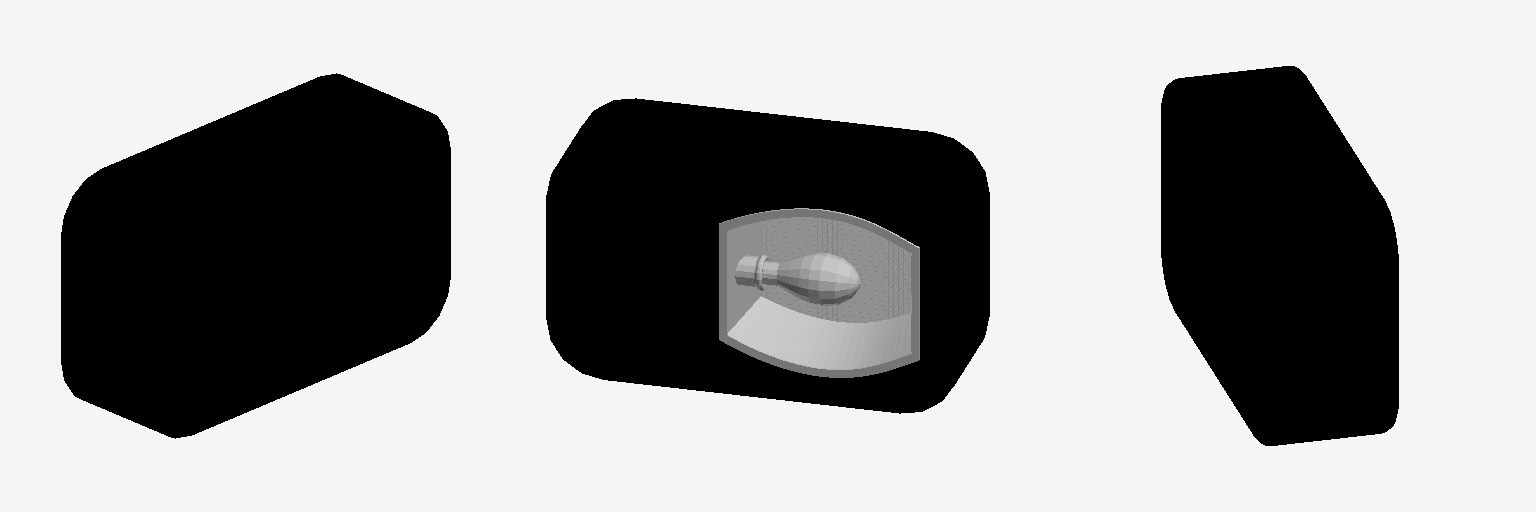
The picture shows the model from 3 angles: view 1: azimuth 30°, elevation 25°; view 2: azimuth 150°, elevation 25°; view 3: azimuth 270°, elevation 25°; orthographic projection.
Parts seen in each view (by area): view 1: VEB_BG2_BezierCurve.014; view 2: VEB_BG2_BezierCurve.014; view 3: VEB_BG2_BezierCurve.014.
Boxes of the visible parts, box(x1,y1,x2,y2) form: VEB_BG2_BezierCurve.014: box(61, 73, 450, 438); VEB_BG2_BezierCurve.014: box(546, 98, 989, 413); VEB_BG2_BezierCurve.014: box(1161, 66, 1398, 445).
Size of the model in its own units: 0.8817 by 0.51 by 0.4751.
5 materials, 2 textured.